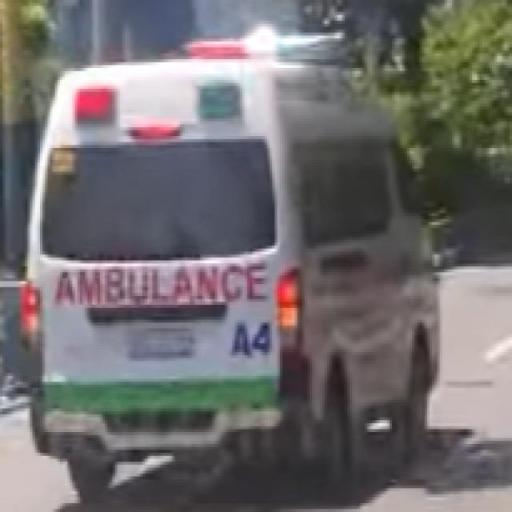Police car: (22, 37, 440, 504)
